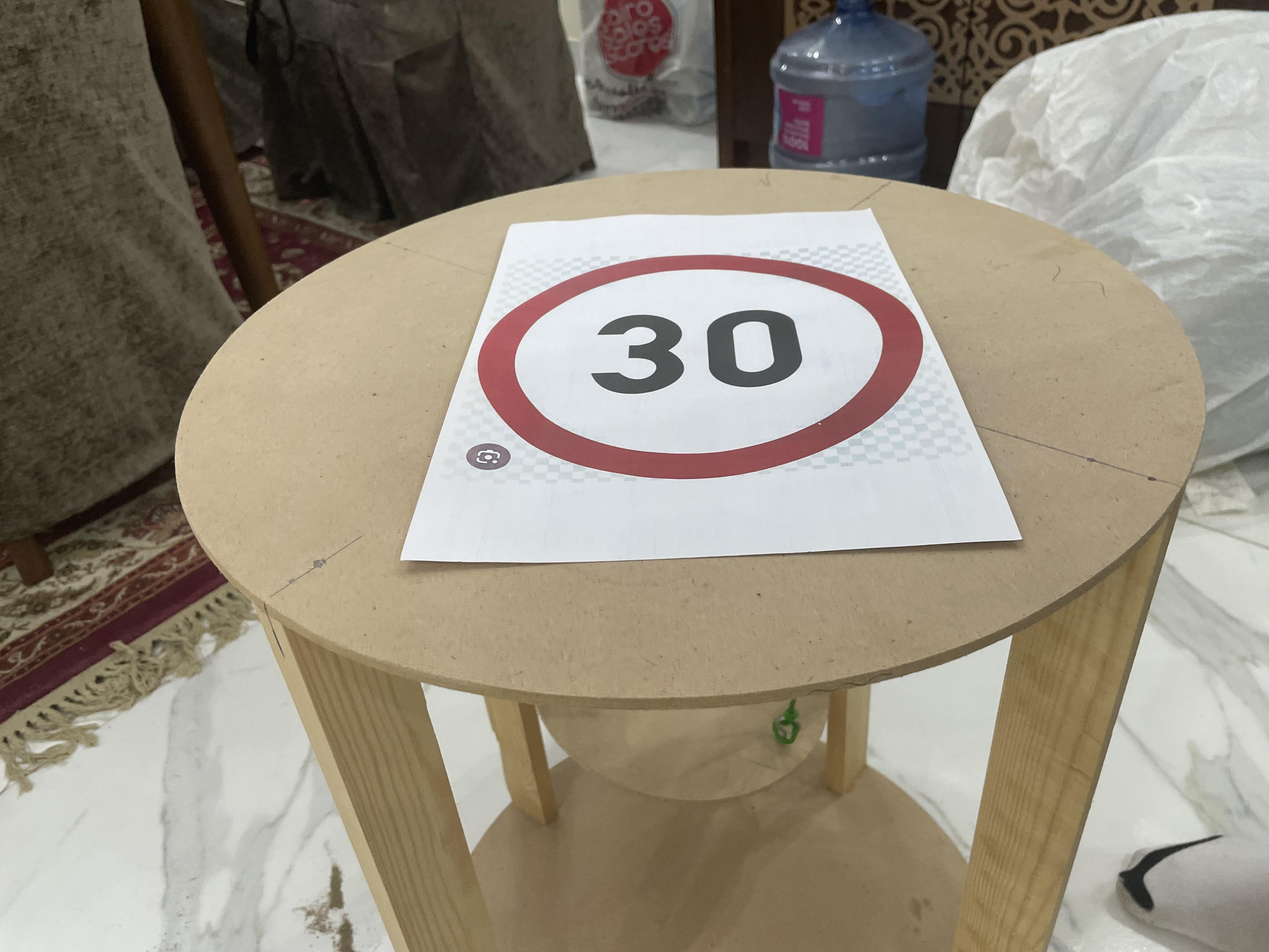30-speed: (482, 230, 929, 476)
